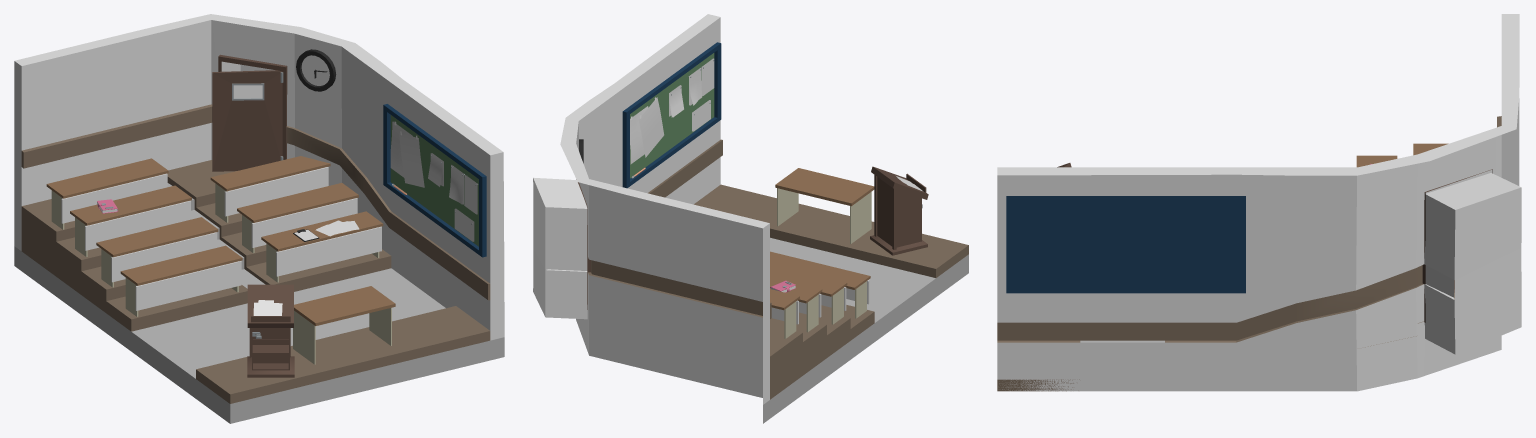
File: classroom2.fbx
The picture shows the model from 3 angles, left to right: view 1: azimuth 30°, elevation 25°; view 2: azimuth 150°, elevation 25°; view 3: azimuth 270°, elevation 25°; orthographic projection. The views are drawn at different scales.
Parts seen in each view (by area): view 1: polySurface27, polySurface26, polySurface17, polySurface24, polySurface14, polySurface22, polySurface16, polySurface13, polySurface11, pCube1, polySurface3, polySurface4 (+22 smaller); view 2: polySurface27, polySurface17, polySurface14, polySurface26, polySurface24, pCube1, polySurface11, polySurface4, polySurface3, pCube44, pCube3, polySurface13 (+7 smaller); view 3: polySurface27, polySurface4, polySurface13, polySurface17.
Part boxes in pixels (x1=…): polySurface27: x1=14, y1=14, x2=504, y2=340; polySurface26: x1=14, y1=246, x2=504, y2=423; polySurface17: x1=196, y1=306, x2=490, y2=403; polySurface24: x1=131, y1=183, x2=445, y2=378; polySurface14: x1=21, y1=199, x2=247, y2=331; polySurface22: x1=212, y1=70, x2=282, y2=171; polySurface16: x1=167, y1=160, x2=391, y2=291; polySurface13: x1=286, y1=126, x2=490, y2=300; polySurface11: x1=21, y1=104, x2=212, y2=168; pCube1: x1=247, y1=284, x2=294, y2=377; polySurface3: x1=390, y1=115, x2=478, y2=246; polySurface4: x1=383, y1=104, x2=486, y2=257; polySurface27: x1=533, y1=14, x2=769, y2=404; polySurface17: x1=694, y1=184, x2=968, y2=277; polySurface14: x1=770, y1=305, x2=874, y2=399; polySurface26: x1=763, y1=254, x2=968, y2=423; polySurface24: x1=770, y1=237, x2=935, y2=322; pCube1: x1=870, y1=166, x2=928, y2=255; polySurface11: x1=588, y1=260, x2=771, y2=318; polySurface4: x1=622, y1=42, x2=721, y2=188; polySurface3: x1=630, y1=53, x2=714, y2=178; pCube44: x1=775, y1=168, x2=874, y2=206; pCube3: x1=770, y1=251, x2=870, y2=289; polySurface13: x1=648, y1=139, x2=722, y2=197; polySurface27: x1=997, y1=14, x2=1521, y2=391; polySurface4: x1=1006, y1=196, x2=1245, y2=293; polySurface13: x1=997, y1=265, x2=1423, y2=342; polySurface17: x1=997, y1=379, x2=1079, y2=391.
Size of the model in its own units: 41.27 by 29.47 by 56.45.
